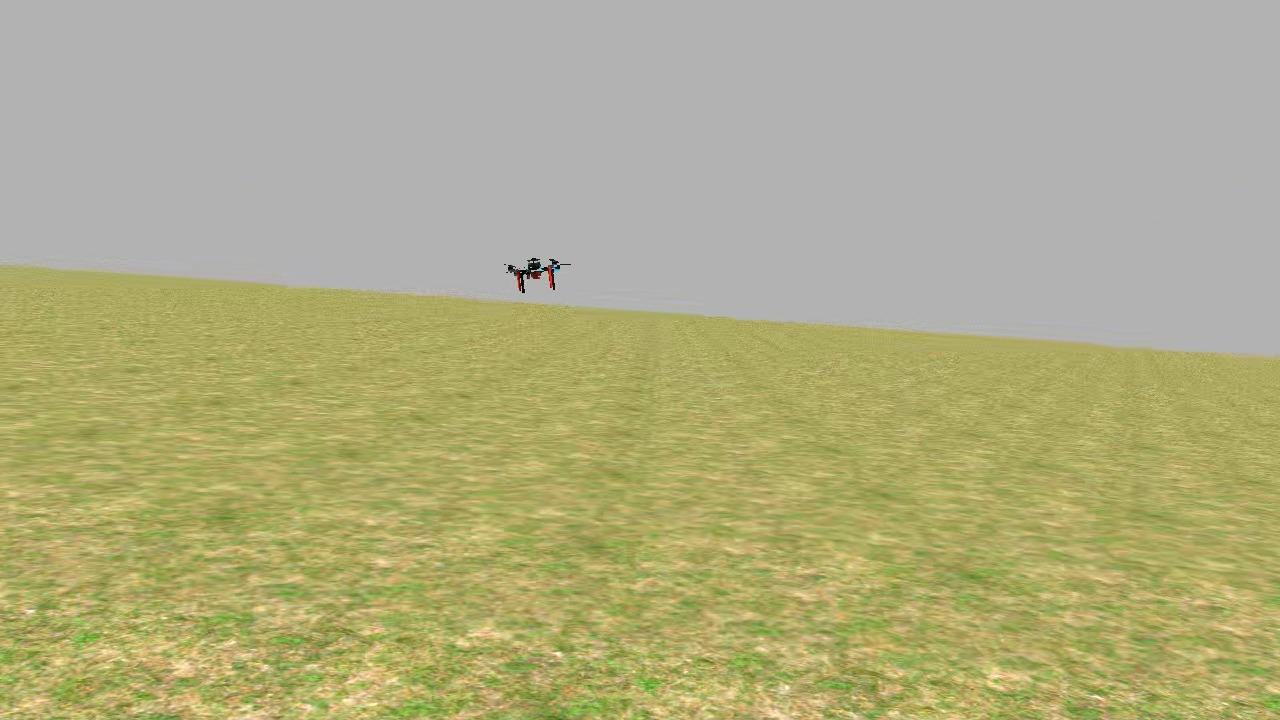UAV: (498, 244, 567, 298)
